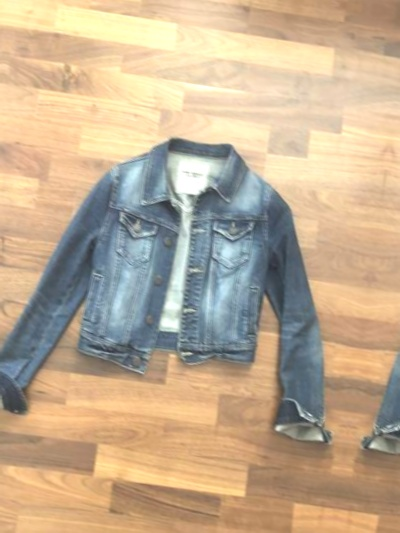Blazer: (0, 66, 389, 484), (346, 122, 400, 533)
